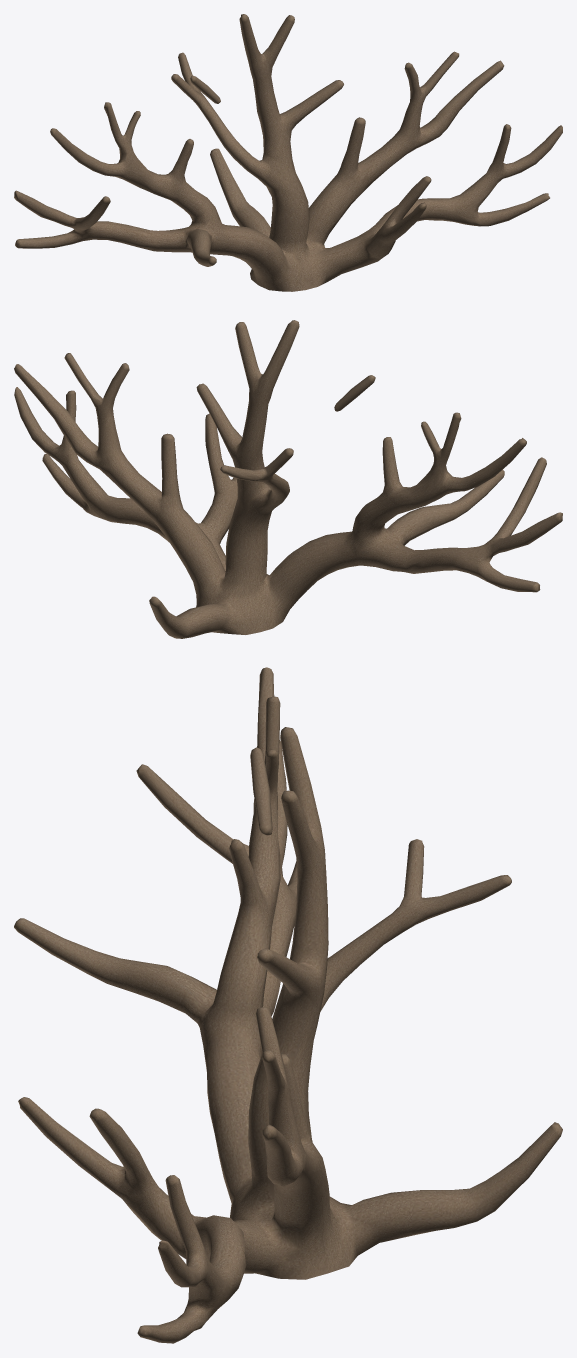
The model's file is Meshy_AI__0915202616_texture (1).glb.
3 views of the same model, one above another, from view 1: azimuth 30°, elevation 25°; view 2: azimuth 150°, elevation 25°; view 3: azimuth 270°, elevation 25° (orthographic). The views are drawn at different scales.
Size of the model in its own units: 1 by 0.5078 by 0.5254.
Materials: 1 (1 with a texture image).
